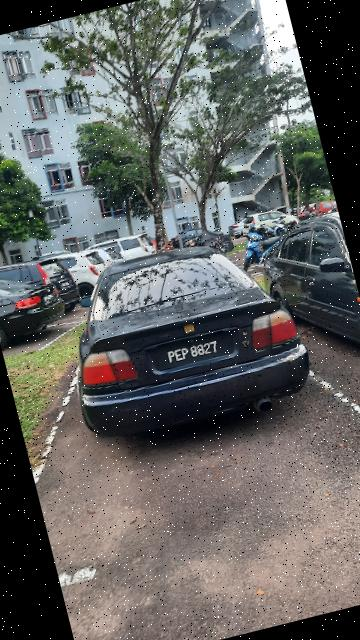License_Plate: (147, 326, 243, 378)
car: (44, 217, 327, 465)
